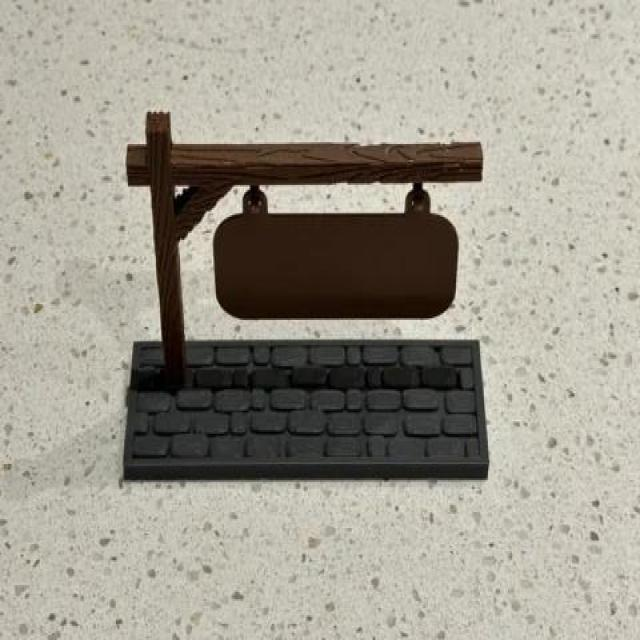Without deffect: (111, 103, 510, 520)
